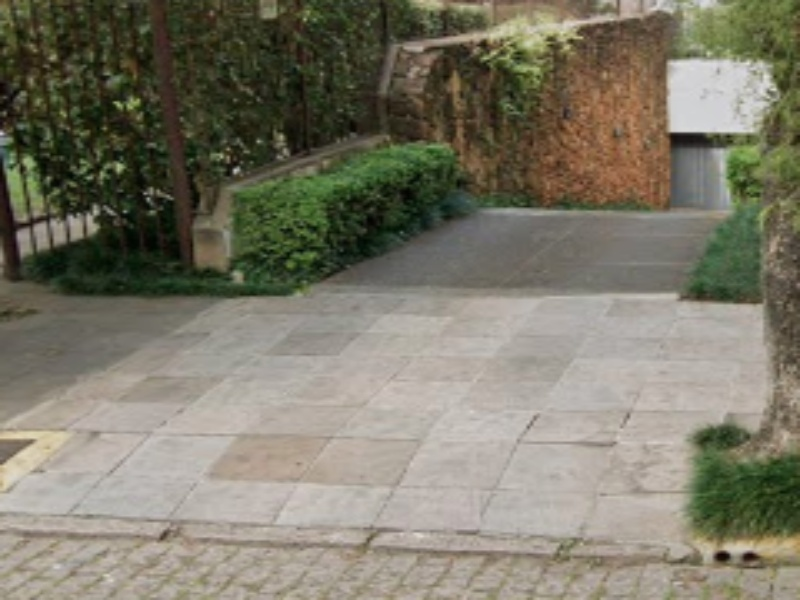g82: (1, 458, 686, 598)
